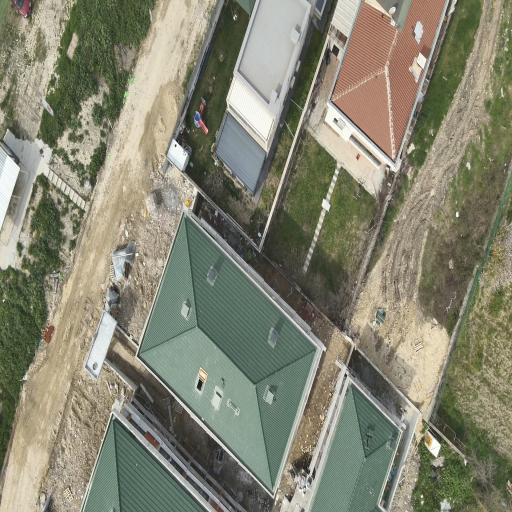car: (12, 0, 31, 18)
